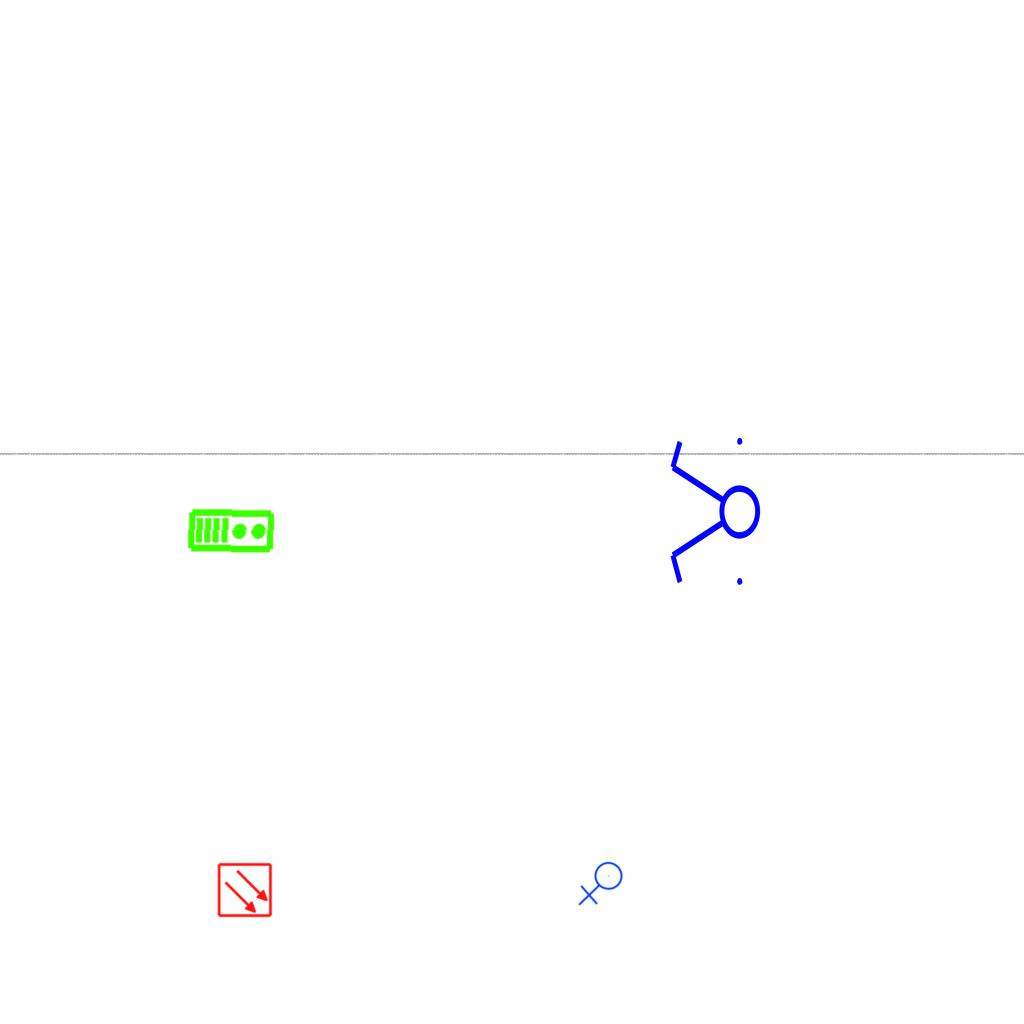Elektroanschluss_allgemein_230V_Geraeteanschlussdose_230V: (578, 861, 627, 908)
Gegensprechanlage_mit_Video: (187, 505, 276, 555)
RMO_Rauchmelder_optischer: (217, 862, 273, 918)
Serienschalter: (666, 429, 762, 597)
